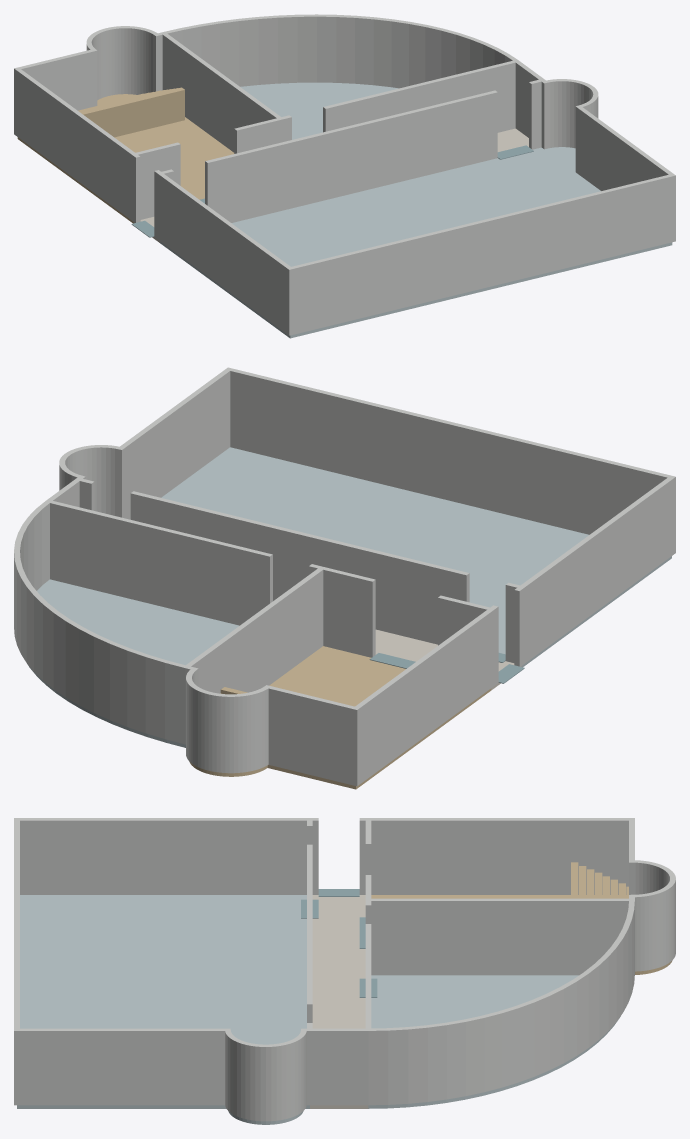
File: floor_6.glb
The picture shows the model from 3 angles, top to bottom: view 1: azimuth 30°, elevation 25°; view 2: azimuth 150°, elevation 25°; view 3: azimuth 270°, elevation 25°; orthographic projection. The views are drawn at different scales.
Parts seen in each view (by area): view 1: floor_6, floor_6_stairs-northeast_step9; view 2: floor_6; view 3: floor_6.
Part boxes in pixels (box(x1,y1,x2,y2)): floor_6: box(14, 14, 675, 338); floor_6_stairs-northeast_step9: box(80, 87, 184, 137); floor_6: box(14, 367, 675, 789); floor_6: box(14, 818, 675, 1124).
Size of the model in its own units: 18.7 by 2.98 by 22.6.
